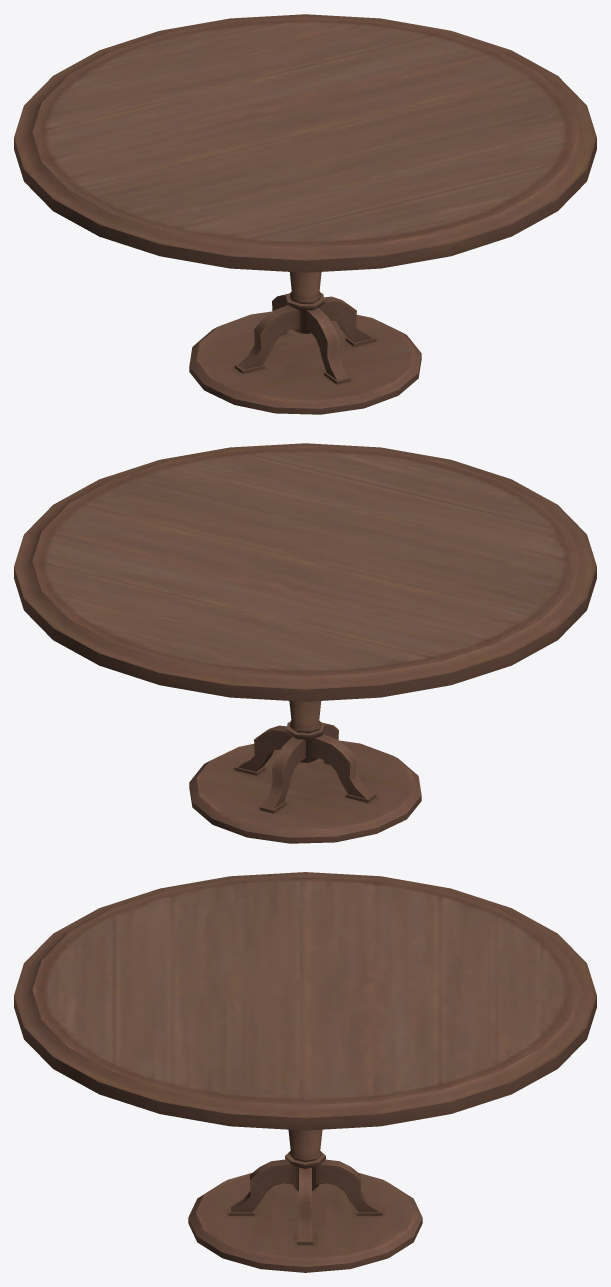
File: Homeworld_Interior_Md_Table_Prop_Card_01_Vo.fbx
3 renders of one model, top to bottom at view 1: azimuth 30°, elevation 25°; view 2: azimuth 150°, elevation 25°; view 3: azimuth 270°, elevation 25°, orthographic.
Visible parts, largest first — view 1: Indoor_Md_Prop_Table_Leathertable_01_Vo; view 2: Indoor_Md_Prop_Table_Leathertable_01_Vo; view 3: Indoor_Md_Prop_Table_Leathertable_01_Vo.
Boxes of the visible parts, x1,y1,x2,y2 form: Indoor_Md_Prop_Table_Leathertable_01_Vo: (14,14,596,414); Indoor_Md_Prop_Table_Leathertable_01_Vo: (14,443,596,843); Indoor_Md_Prop_Table_Leathertable_01_Vo: (14,872,596,1272).
Size of the model in its own units: 1.76 by 0.7758 by 1.76.
